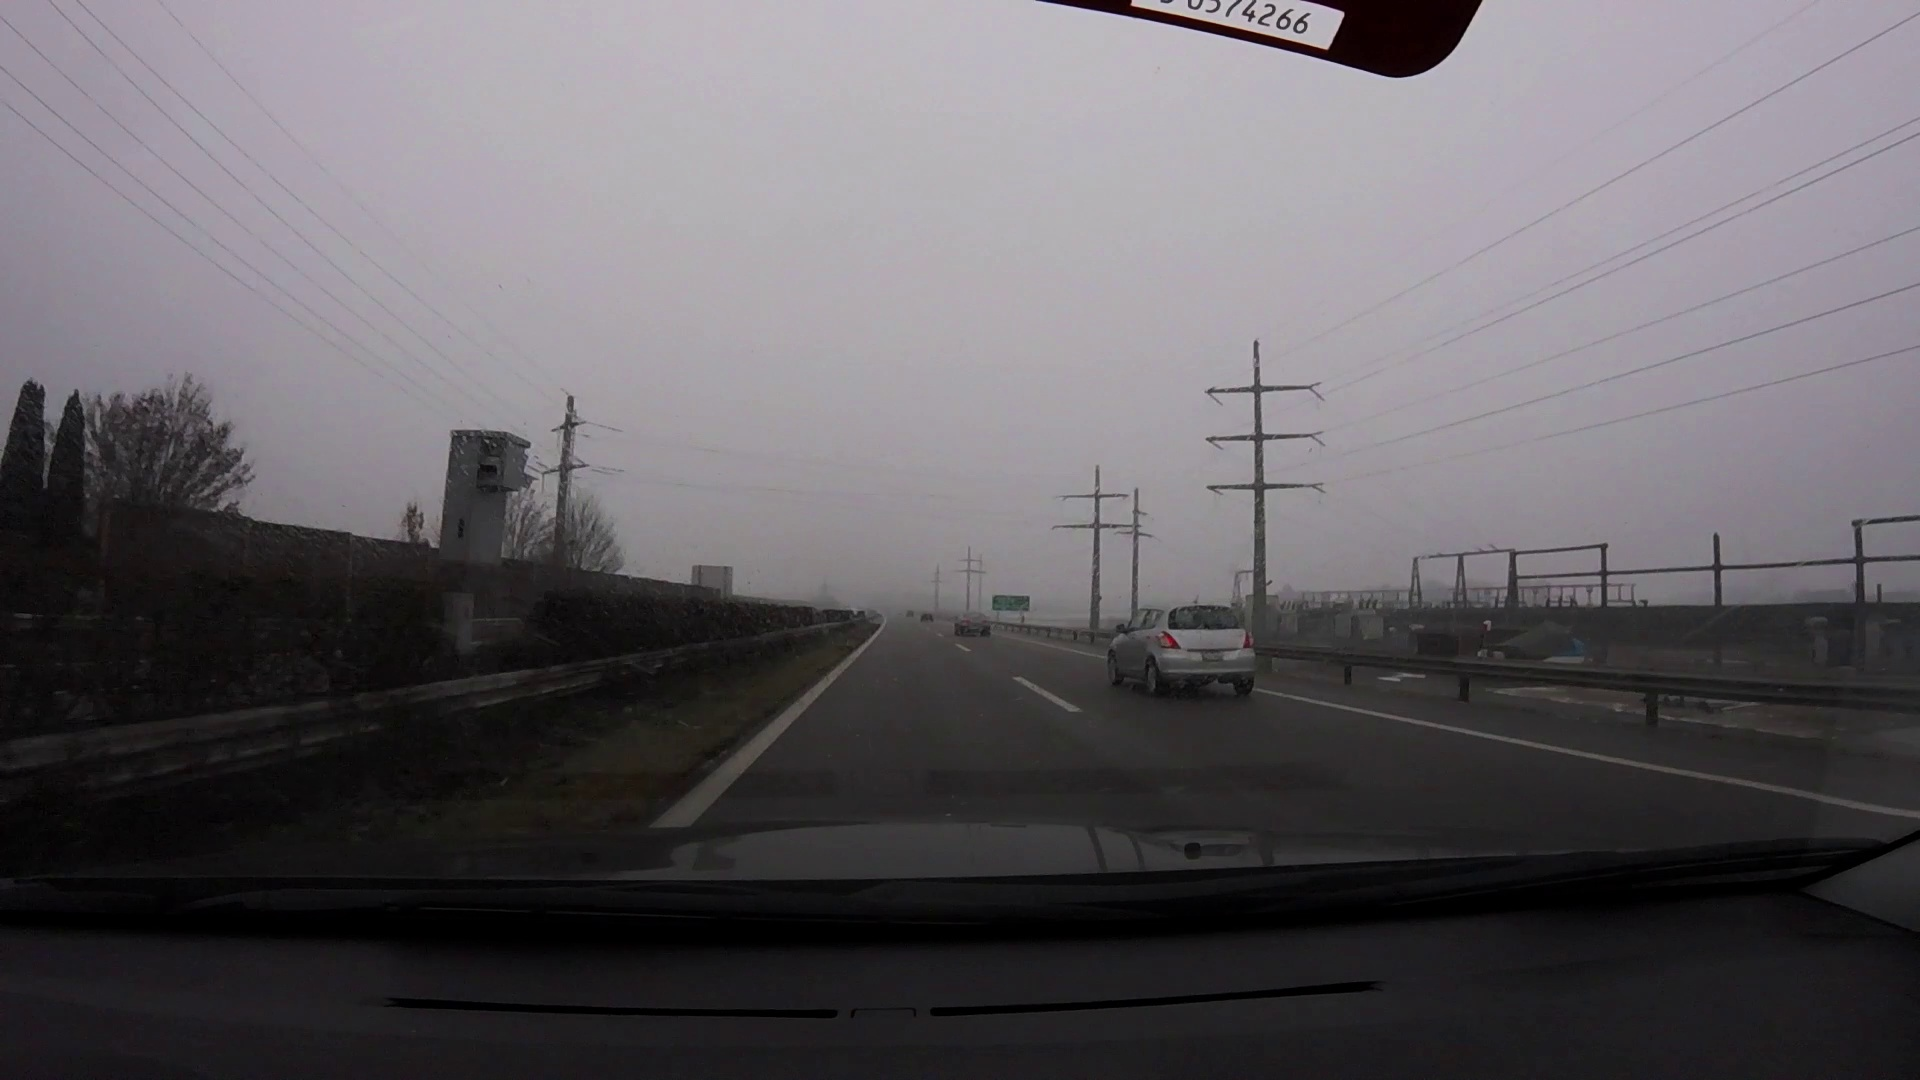radar: (433, 426, 531, 622)
